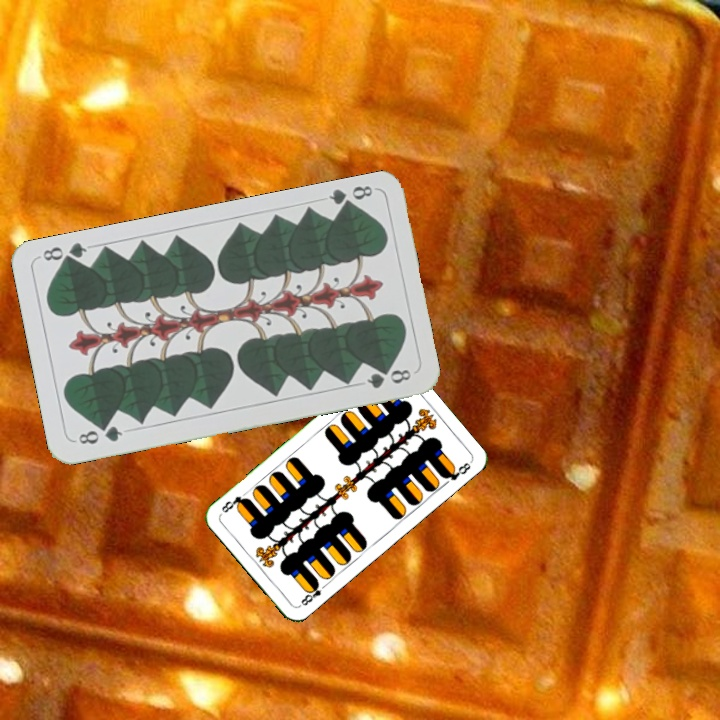E8: (297, 578, 330, 608)
G8: (325, 181, 375, 214), (74, 421, 125, 447)
